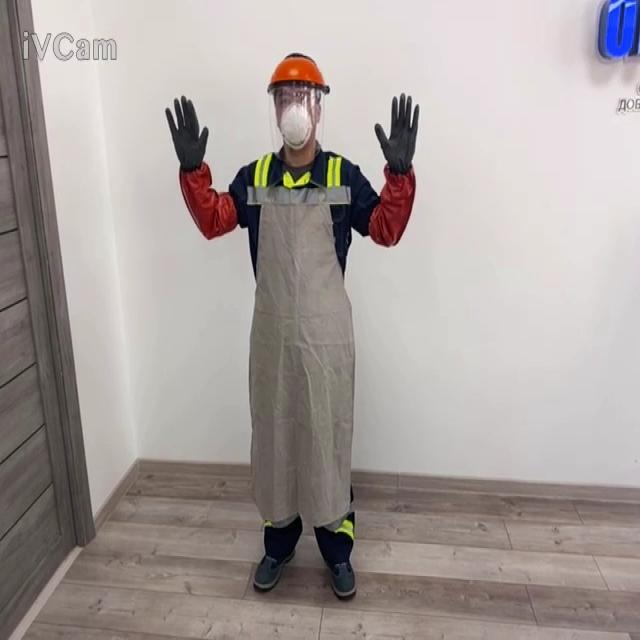Gloves: (164, 95, 238, 240), (374, 92, 419, 175), (164, 95, 208, 172)
Helmet: (266, 52, 330, 95)
Mask: (277, 100, 313, 151)
Protective apron: (245, 171, 356, 529)
Safety Shoes: (252, 548, 295, 589), (328, 559, 356, 597)
Sleeve: (178, 160, 238, 240), (367, 161, 415, 247)
